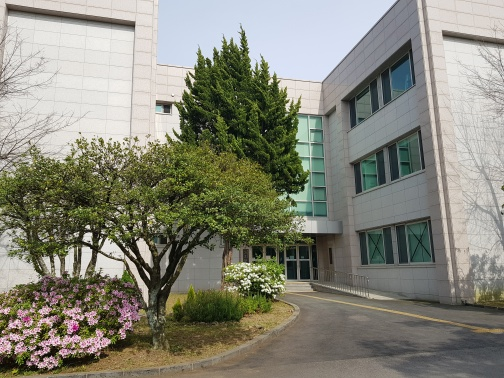College of Nursing: (27, 19, 493, 290)
